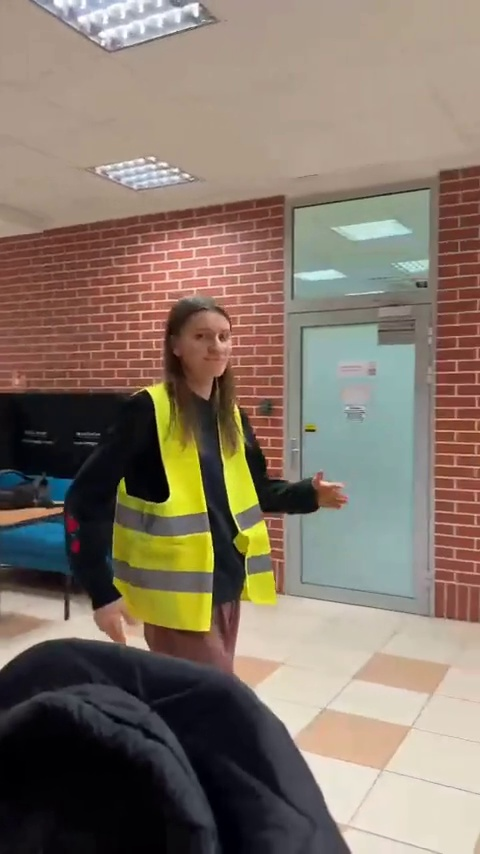vest: (68, 292, 344, 683)
